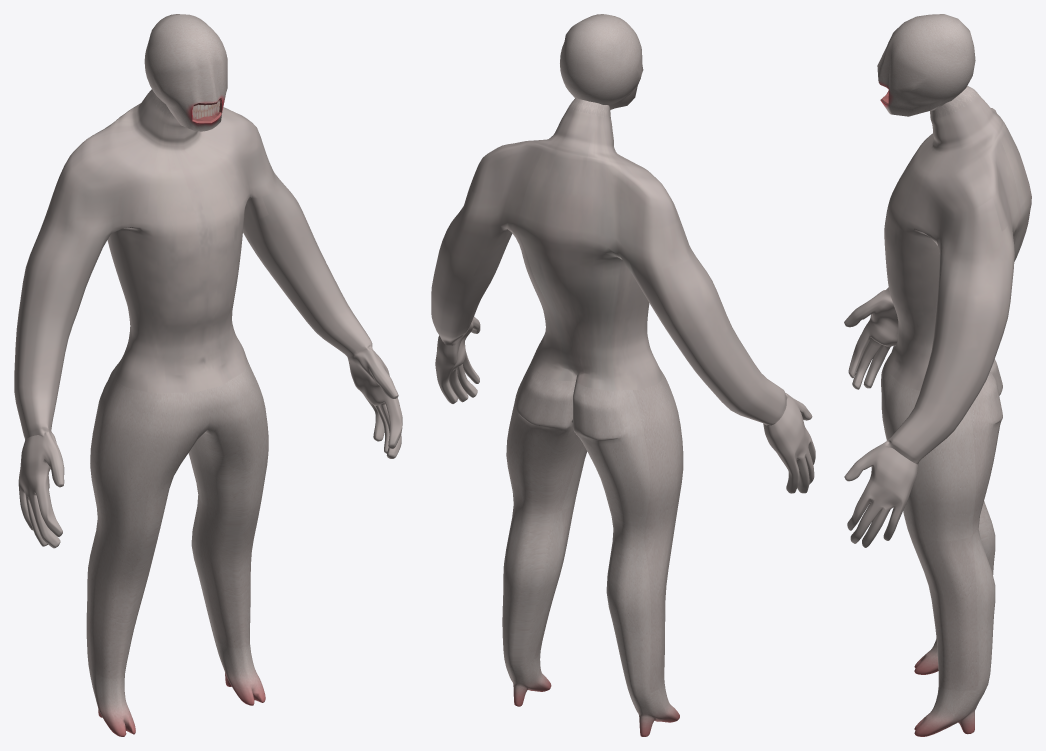
The model's file is Boråsare.fbx.
The picture shows the model from 3 angles, left to right: view 1: azimuth 30°, elevation 25°; view 2: azimuth 150°, elevation 25°; view 3: azimuth 270°, elevation 25°; orthographic projection.
Visible parts, largest first — view 1: HeadShape; view 2: HeadShape; view 3: HeadShape.
Part boxes in pixels (x1,y1,x2,y2): HeadShape: (14, 14, 402, 736); HeadShape: (431, 14, 815, 736); HeadShape: (844, 14, 1031, 736).
Bounding box in the file's own units: 6.06 × 11.05 × 2.74.
Materials: 8 (7 with a texture image).
